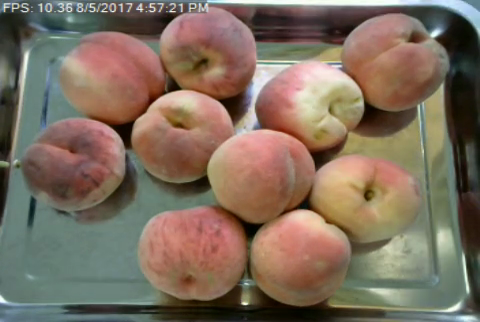Peach: (340, 11, 447, 113), (137, 206, 248, 301), (309, 153, 423, 245), (254, 58, 360, 156), (205, 128, 315, 222), (21, 117, 129, 210), (250, 208, 351, 307), (60, 29, 164, 125), (134, 89, 235, 184), (159, 6, 257, 99)
